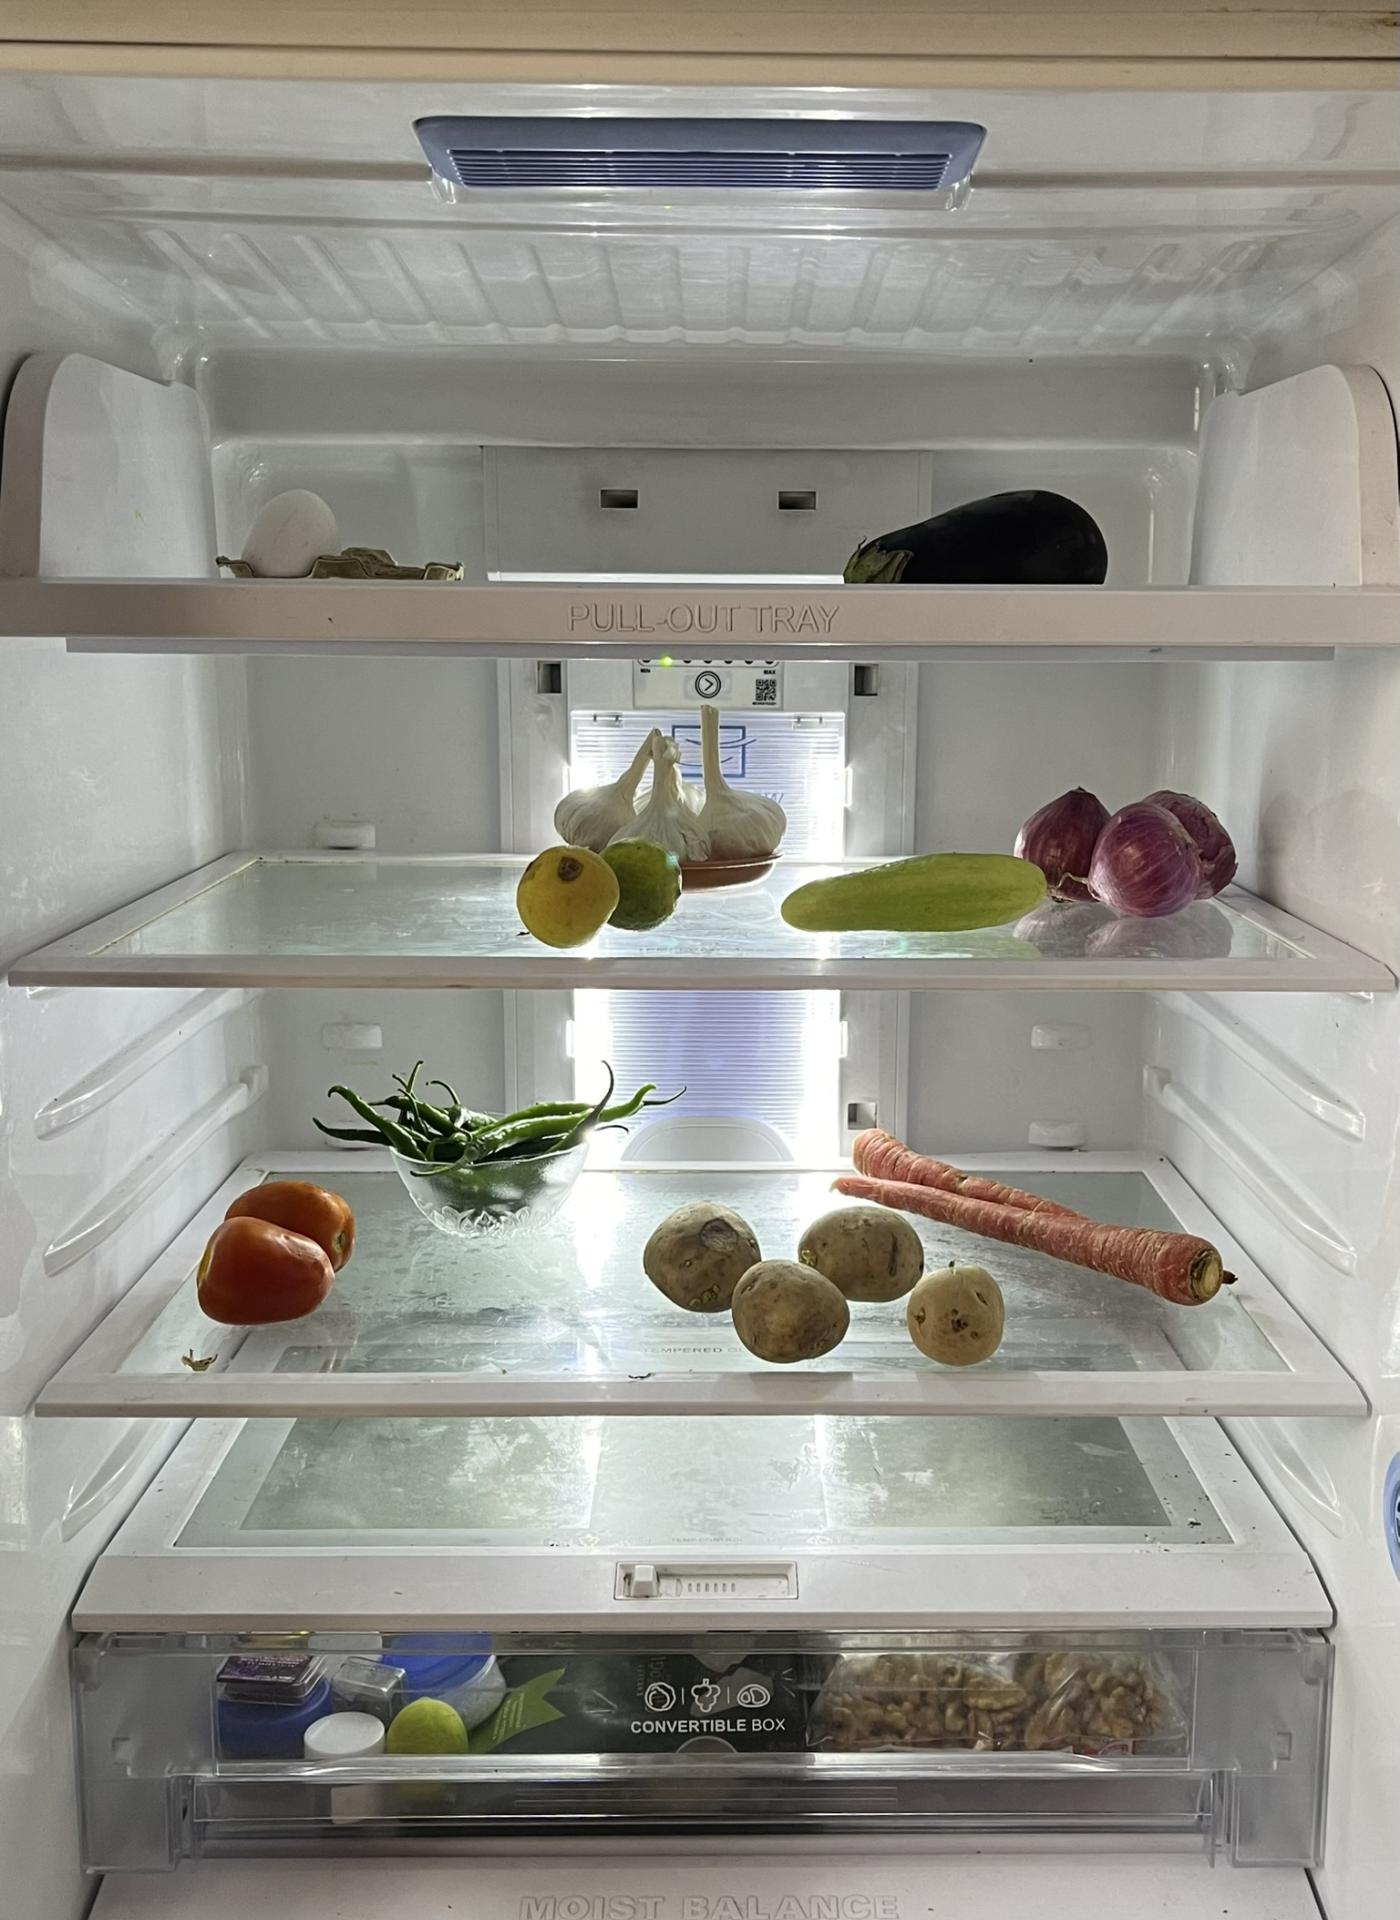carrots: (832, 1118, 1242, 1312)
chillies: (331, 1052, 656, 1251)
cucumber: (775, 841, 1069, 935)
egg: (228, 473, 346, 578)
garlic: (547, 699, 787, 859)
lemon: (516, 835, 680, 941)
onion: (1005, 778, 1242, 921)
potato: (726, 1260, 866, 1365), (641, 1209, 775, 1315), (896, 1266, 1021, 1365), (799, 1206, 933, 1297)
tomato: (197, 1172, 374, 1325)
